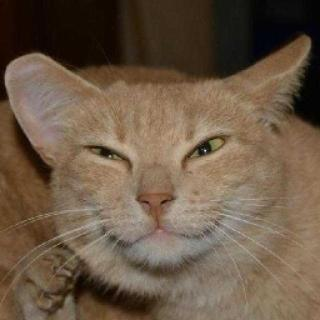cat: (0, 45, 305, 279)
nose: (132, 164, 177, 223)
